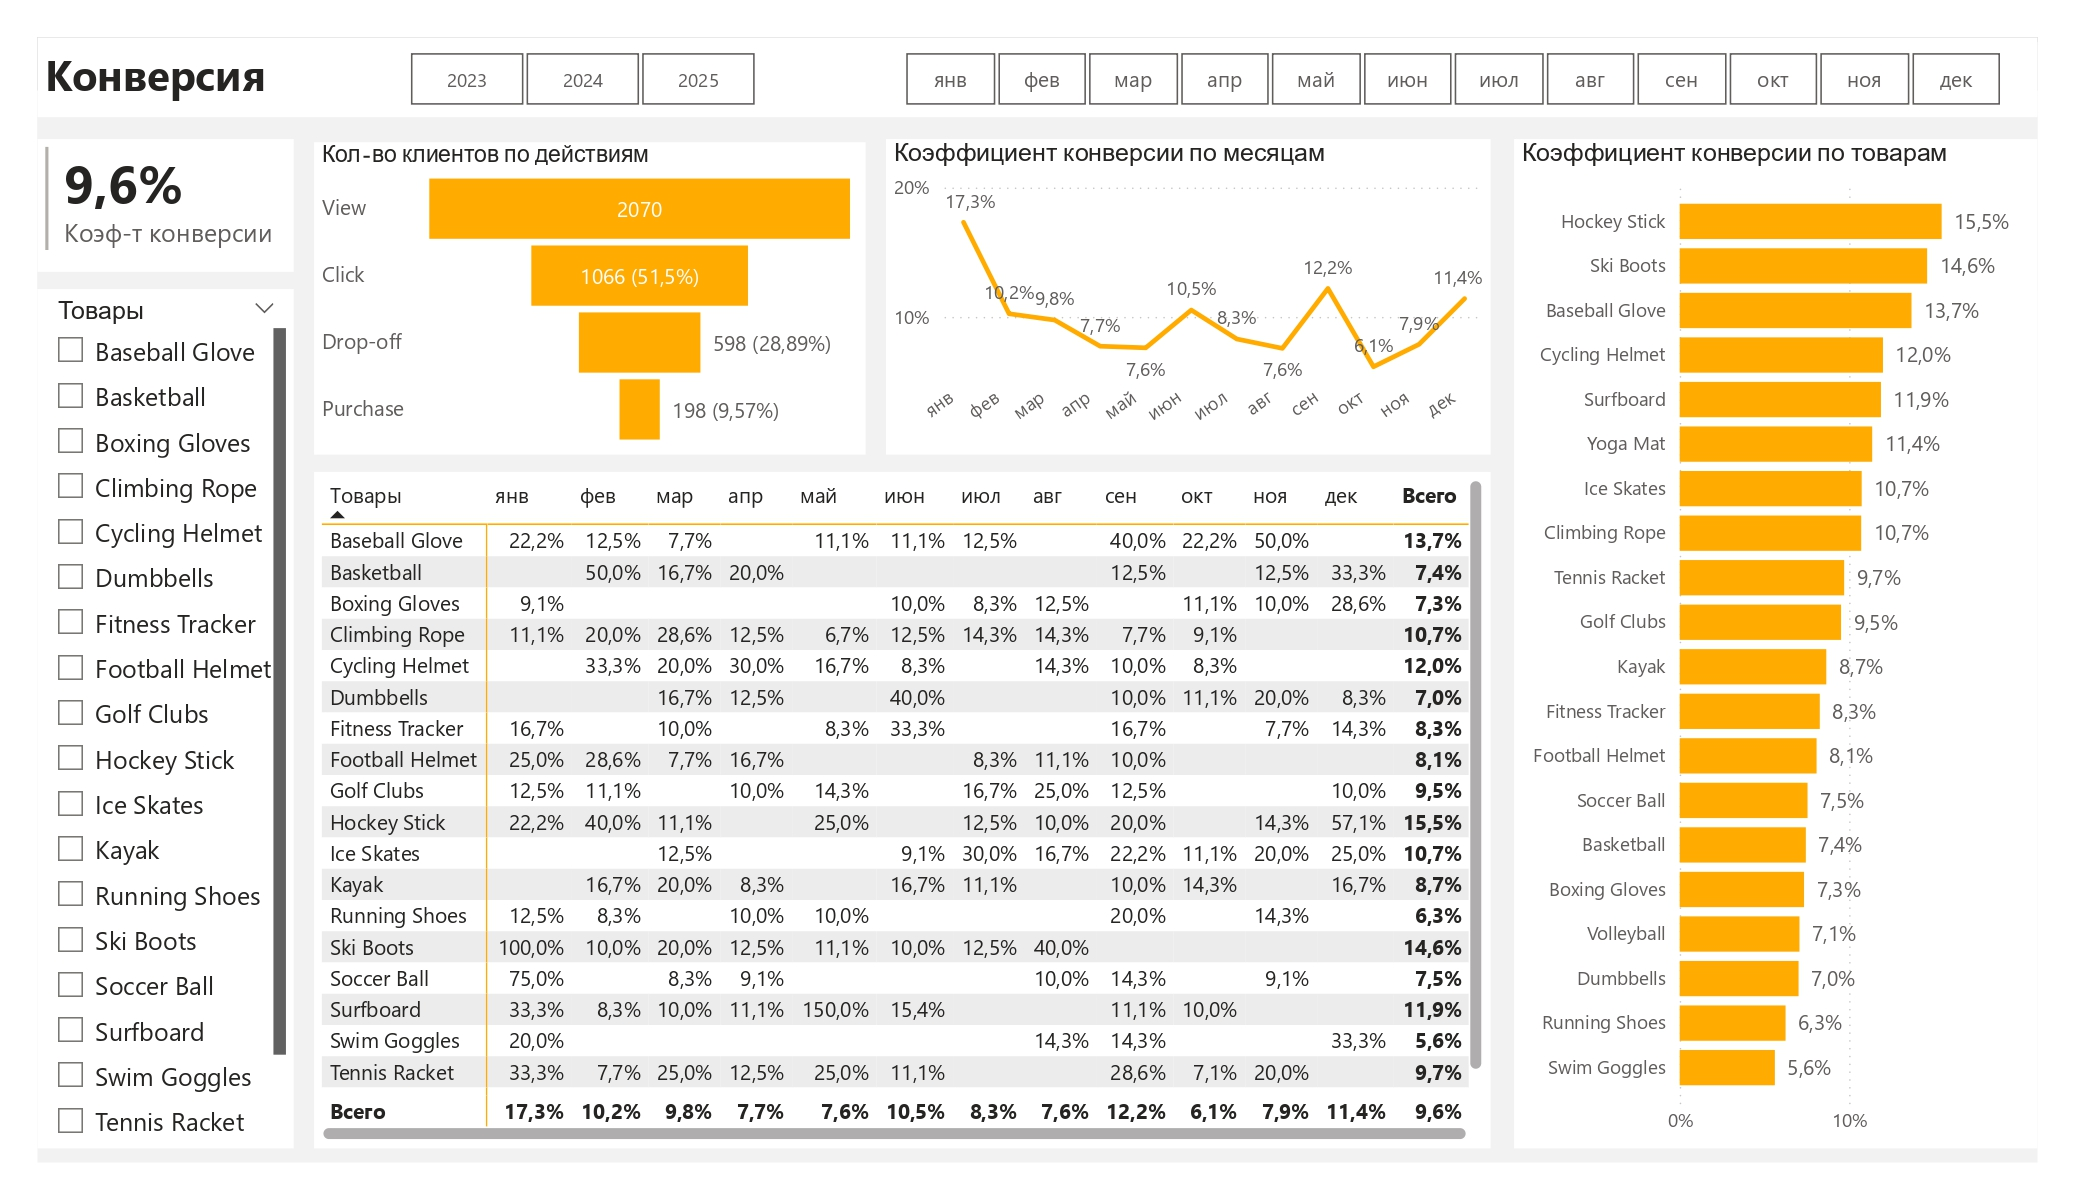

What the dashboard file says about the page in this screenshot:
{"tool":"powerbi","page":{"name":"Анализ конверсии","canvas":[1280,720],"ordinal":1},"visuals":[{"type":"actionButton","box":[0,0,100,40],"z":0},{"type":"textbox","box":[0,0,1280.3,50.8],"z":1000},{"type":"slicer","fields":{"Values":["dim_products.ProductName"]},"box":[0,161,164.2,549.6],"z":2000},{"type":"multiRowCard","fields":{"Values":["_Calculations.Conversion Rate"]},"box":[0,65,164.2,84.6],"z":3000},{"type":"slicer","fields":{"Values":["Calendar.Year"]},"box":[213,3.3,269.9,47.2],"z":4000},{"type":"slicer","fields":{"Values":["Calendar.MonthNameShort"]},"box":[530.1,3.3,749.6,47.2],"z":5000},{"type":"lineChart","title":"Коэффициент конверсии по месяцам","fields":{"Y":["_Calculations.Conversion Rate"],"Category":["Calendar.MonthNameShort"]},"box":[543.1,65,387,201.6],"z":6000},{"type":"clusteredBarChart","title":"Коэффициент конверсии по товарам","fields":{"Category":["dim_products.ProductName"],"Y":["_Calculations.Conversion Rate"]},"box":[944.7,65,335,645.5],"z":7000},{"type":"pivotTable","fields":{"Rows":["dim_products.ProductName"],"Values":["_Calculations.Conversion Rate"],"Columns":["Calendar.MonthNameShort"]},"box":[177.2,278.1,752.9,432.5],"z":8000},{"type":"funnel","title":"Кол-во клиентов по действиям","fields":{"Y":["_Calculations.Number of Customer Journeys"],"Category":["fact_customer_journey.Action"]},"box":[177.2,66.7,352.8,200],"z":9000}]}

Visuals, with their boxes in screenshot pixels (x1, y1, x2, y2):
actionButton: (x1=38, y1=38, x2=194, y2=100)
textbox: (x1=38, y1=38, x2=2038, y2=117)
slicer - dim_products.ProductName: (x1=38, y1=289, x2=294, y2=1148)
multiRowCard - _Calculations.Conversion Rate: (x1=38, y1=139, x2=294, y2=271)
slicer - Calendar.Year: (x1=370, y1=43, x2=792, y2=116)
slicer - Calendar.MonthNameShort: (x1=866, y1=43, x2=2037, y2=116)
"Коэффициент конверсии по месяцам" lineChart: (x1=886, y1=139, x2=1491, y2=454)
"Коэффициент конверсии по товарам" clusteredBarChart: (x1=1514, y1=139, x2=2037, y2=1148)
pivotTable - dim_products.ProductName x _Calculations.Conversion Rate: (x1=314, y1=472, x2=1491, y2=1148)
"Кол-во клиентов по действиям" funnel: (x1=314, y1=142, x2=866, y2=454)
